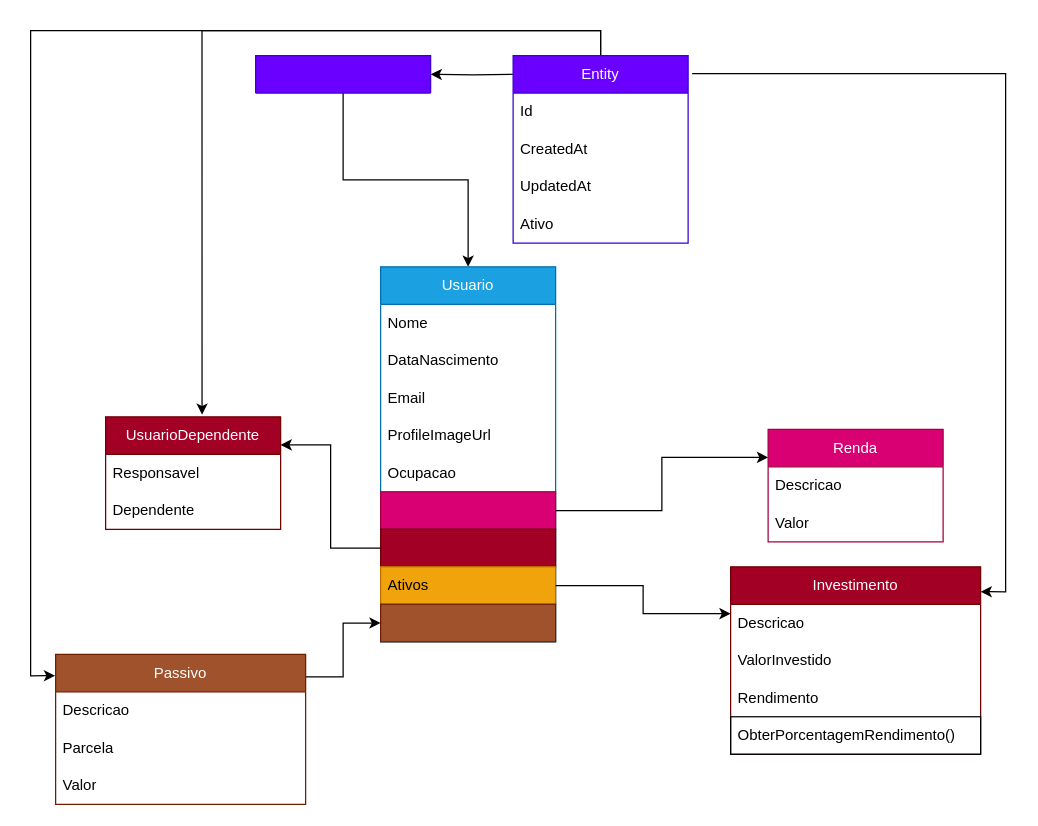
Some shapes in this 1038 by 826 pixel diagram are drawn without their labels. Each missing label, with the centre of its shape:
"AggregateRoot" belongs at point (342, 73).
"Dependentes" belongs at point (467, 547).
"Passivos" belongs at point (467, 622).
"Rendas" belongs at point (467, 509).
